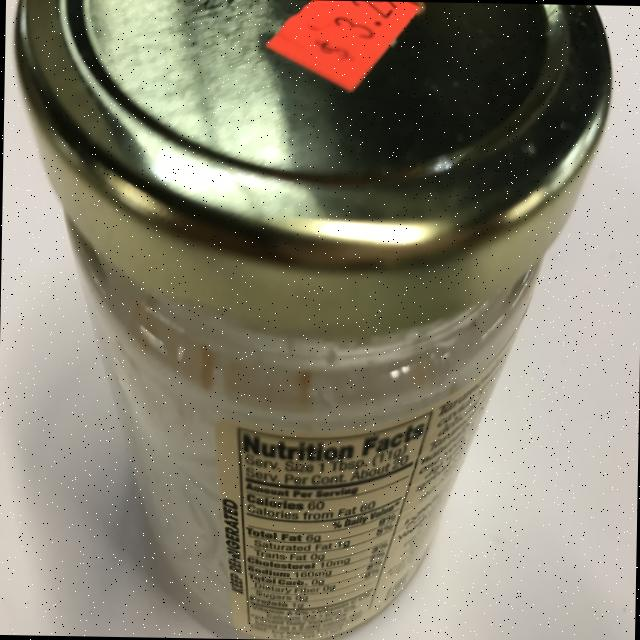glass: (2, 0, 613, 640)
